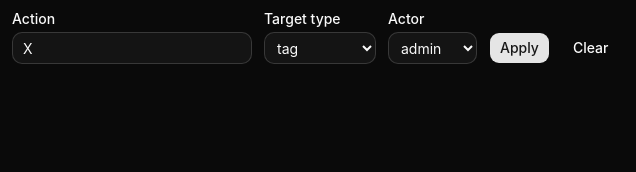
audit log filters › clears all filters
This screenshot has width=636, height=172.
Click the button "Clear".
click(591, 48)  # box [562,32,619,64]
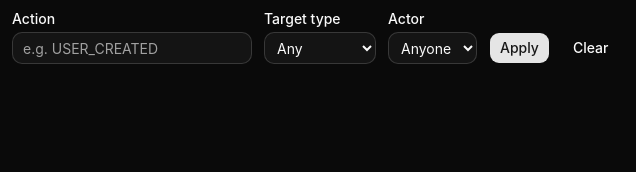
Check: the field labelled "Action" is empty, box [12,32,252,64]
